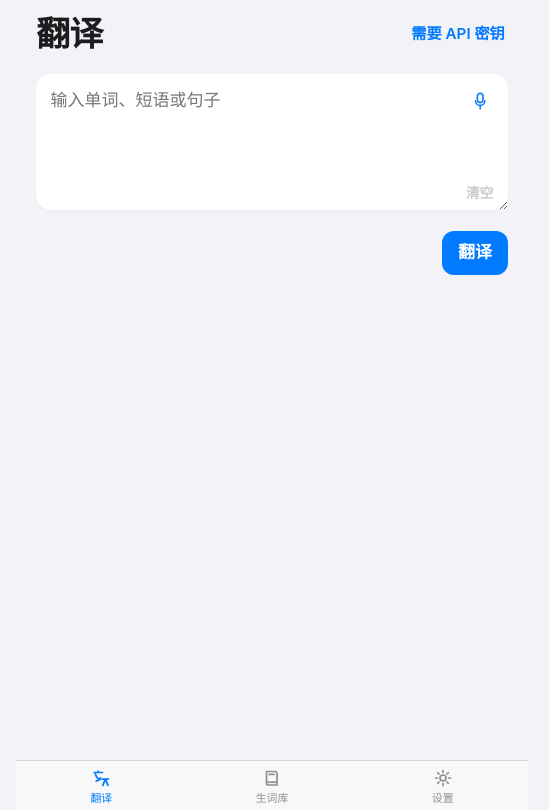
it: App shell › shows the translate page and switches between the three tabs
expect the heading "翻译" is shown: met, box [36,14,103,54]
Click the tab "生词库": (272, 785) [187,761,357,809]
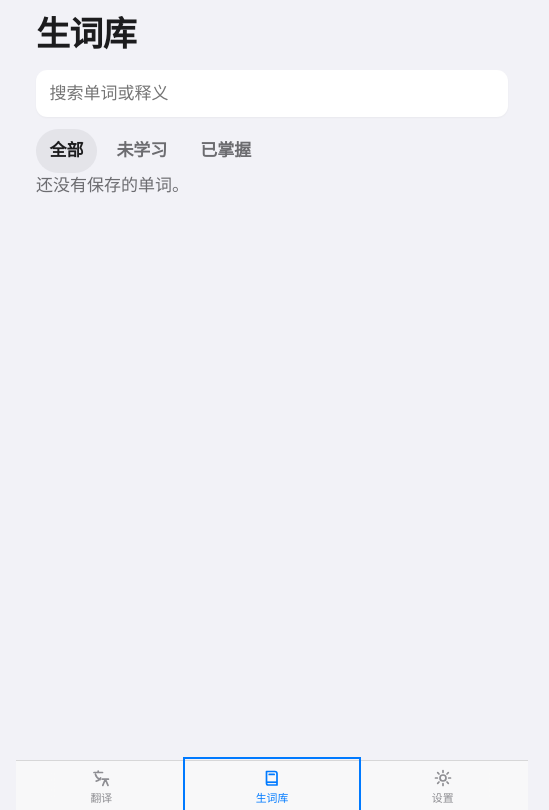
expect the heading "生词库" is shown: met, box [36,14,136,54]
Click the tab "设置": (443, 785) [357,761,528,809]
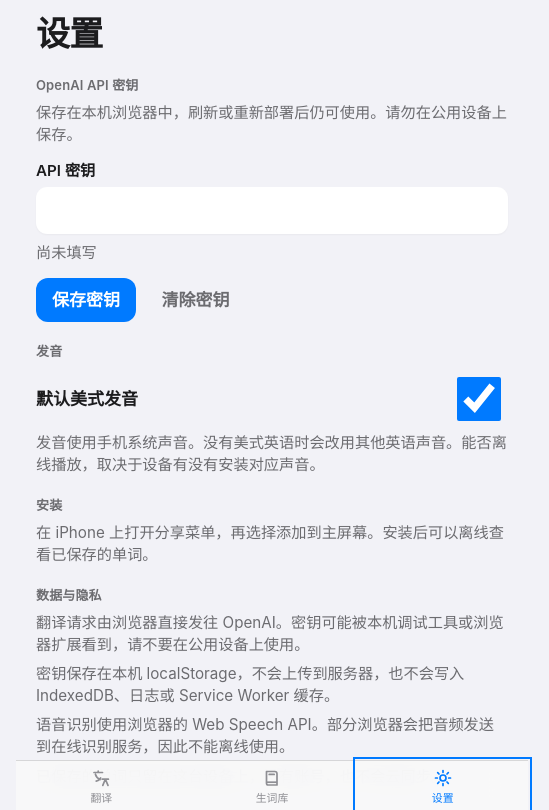
expect the heading "设置" is shown: met, box [36,14,103,54]
